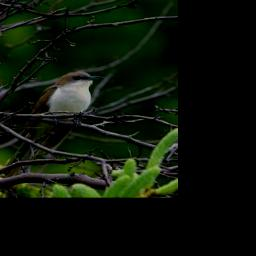Cuckoo: (0, 69, 99, 180)
